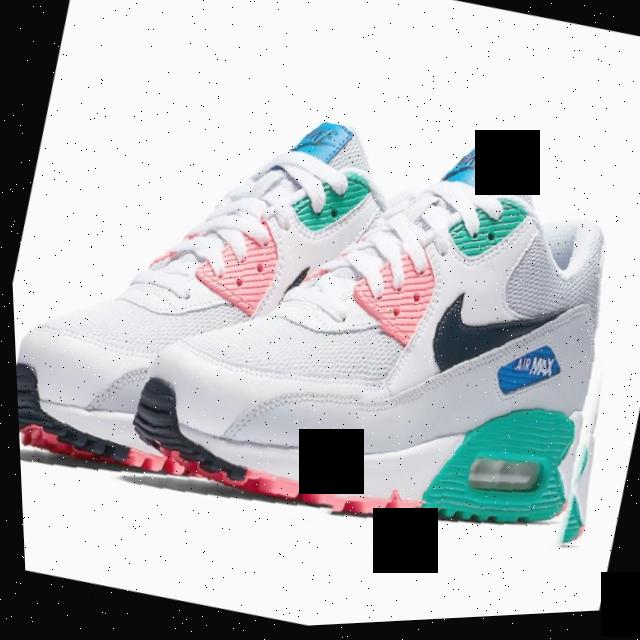shoe: (109, 76, 640, 617), (3, 60, 443, 566)
